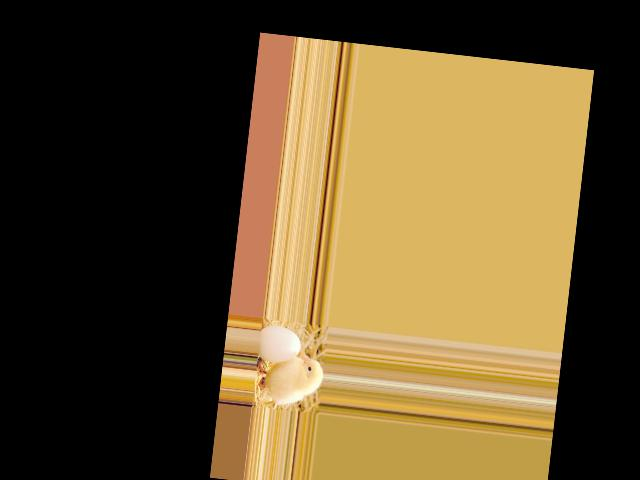egg: (256, 324, 302, 365)
